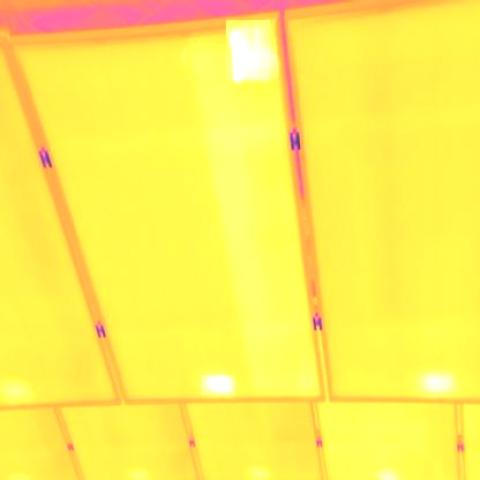fault: (226, 20, 270, 80), (201, 375, 235, 395), (425, 370, 454, 392)
